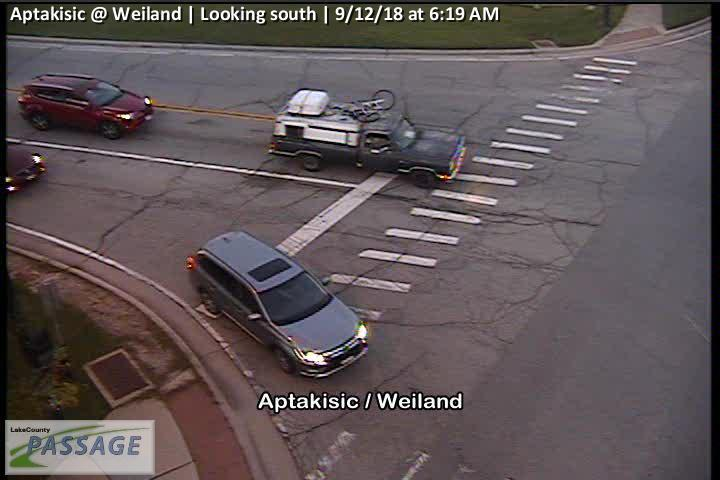SUV: (186, 232, 372, 380), (16, 74, 155, 139)
Truck: (271, 99, 466, 188)
